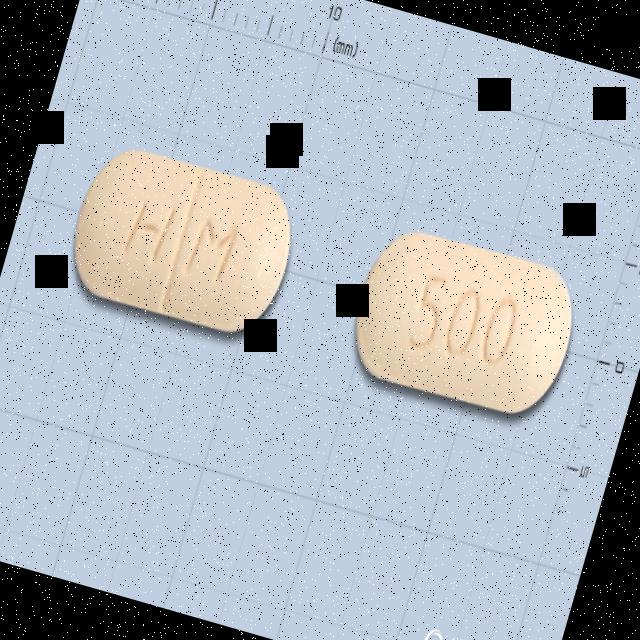Levoxacin: (339, 221, 588, 428), (58, 137, 306, 344)
